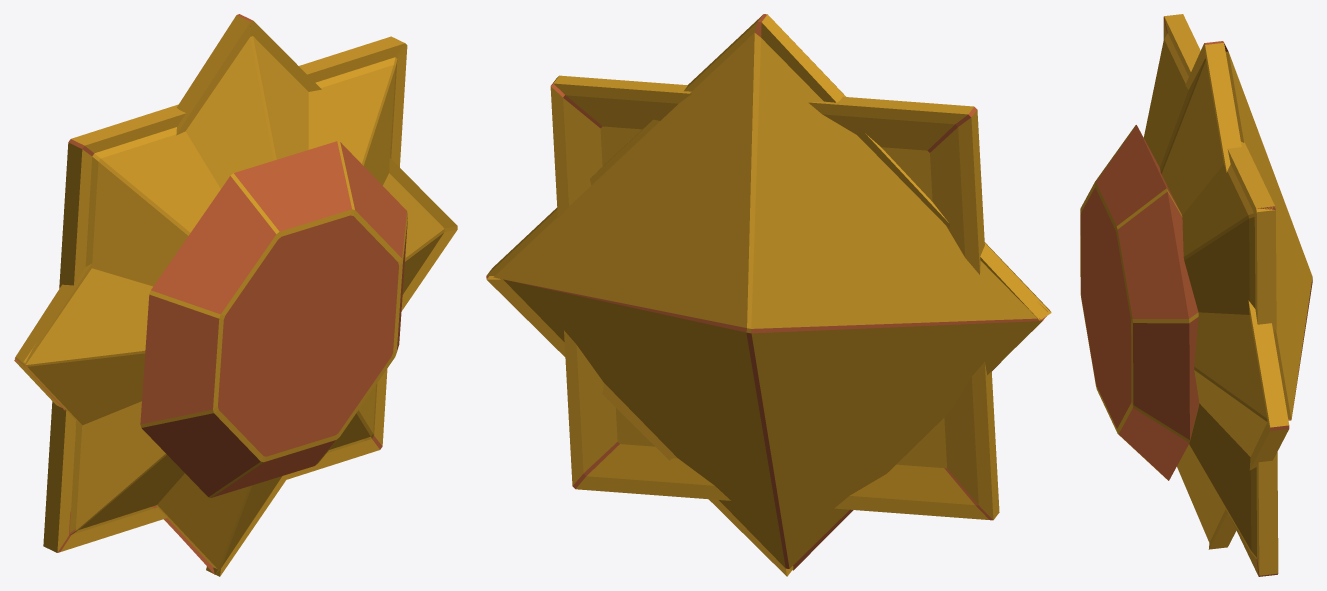
File: linemate.glb
3 views of the same model, side by side, from view 1: azimuth 30°, elevation 25°; view 2: azimuth 150°, elevation 25°; view 3: azimuth 270°, elevation 25° (orthographic). The views are drawn at different scales.
Visible parts, largest first — view 1: Cylinder.013; view 2: Cylinder.013; view 3: Cylinder.013.
Boxes of the visible parts, bbox=[...] form: Cylinder.013: bbox=[14, 14, 457, 576]; Cylinder.013: bbox=[486, 14, 1051, 576]; Cylinder.013: bbox=[1080, 14, 1312, 576].
Size of the model in its own units: 0.8482 by 0.8941 by 0.3626.
